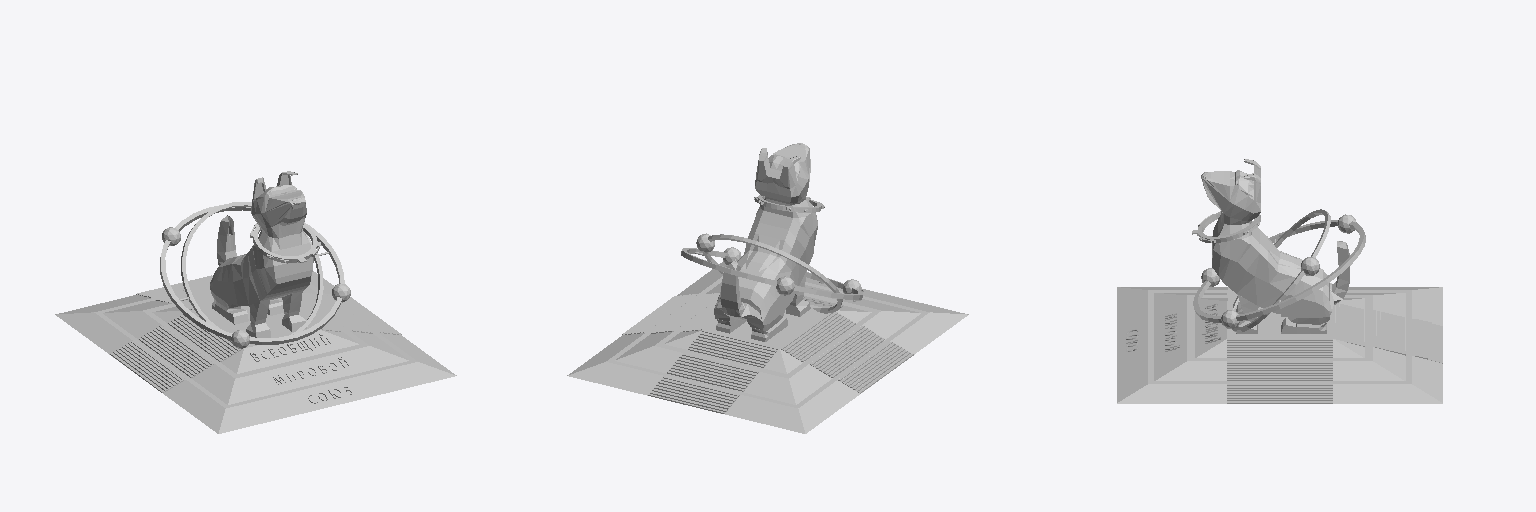
File: LaikaStatueUVSmooth1.obj
The picture shows the model from 3 angles: view 1: azimuth 30°, elevation 25°; view 2: azimuth 150°, elevation 25°; view 3: azimuth 270°, elevation 25°; orthographic projection.
Parts seen in each view (by area): view 1: Dog.001; view 2: Dog.001; view 3: Dog.001.
Part boxes in pixels (x1,y1,x2,y2): Dog.001: (55,171,456,433); Dog.001: (567,143,968,433); Dog.001: (1117,159,1442,403).
Size of the model in its own units: 21.13 by 15.2 by 25.02.